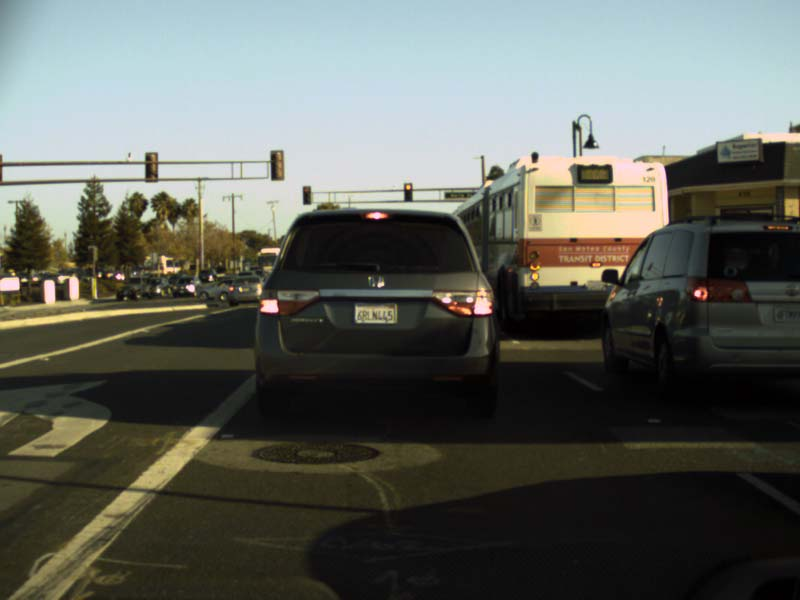Red: (404, 182, 412, 203), (302, 185, 310, 204)
